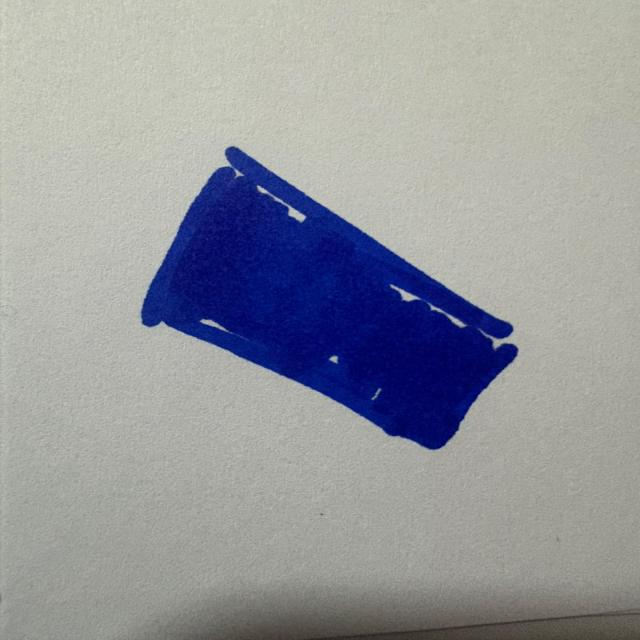Rectangle: (141, 146, 518, 450)
